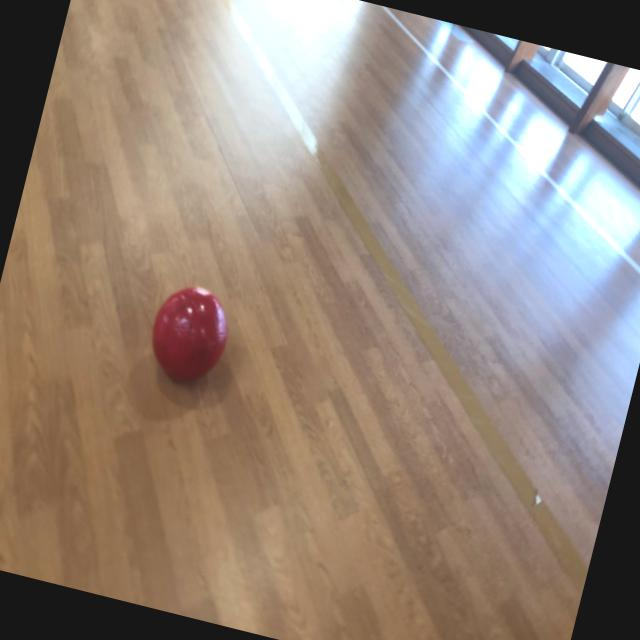red_ball: (142, 280, 233, 386)
